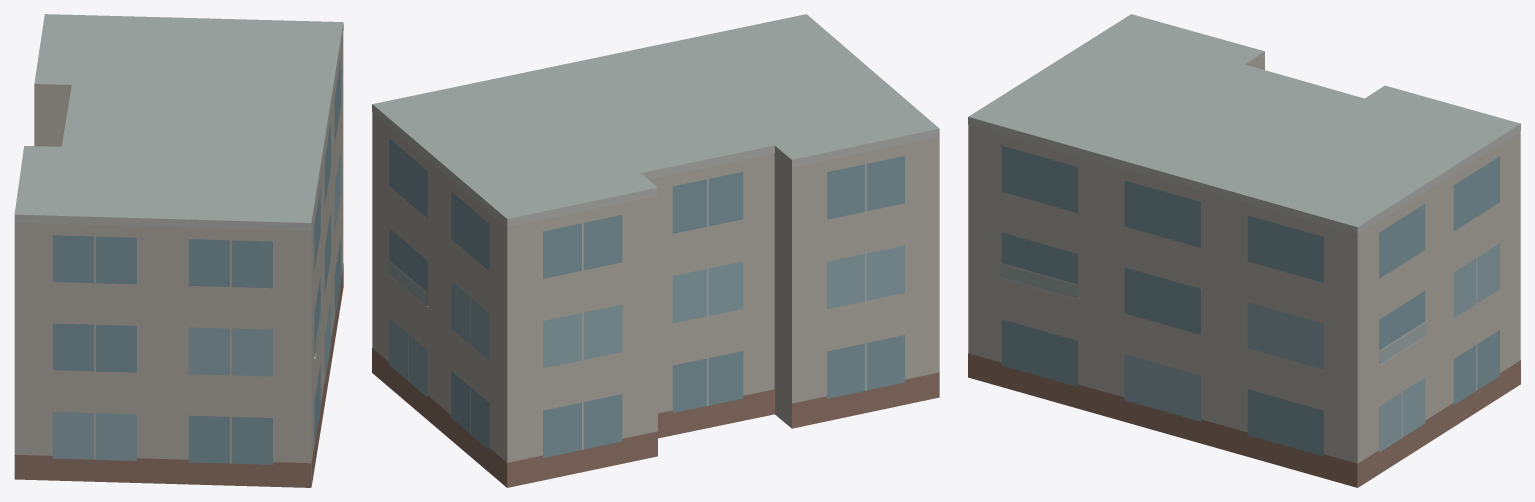
File: survey-upis-32731730.glb
The picture shows the model from 3 angles, left to right: view 1: azimuth 30°, elevation 25°; view 2: azimuth 150°, elevation 25°; view 3: azimuth 270°, elevation 25°; orthographic projection. The views are drawn at different scales.
Visible parts, largest first — view 1: survey-upis-32731730.tmp; view 2: survey-upis-32731730.tmp; view 3: survey-upis-32731730.tmp.
Part boxes in pixels (<box>): survey-upis-32731730.tmp: <box>14,14,343,487</box>; survey-upis-32731730.tmp: <box>372,14,939,487</box>; survey-upis-32731730.tmp: <box>968,14,1520,487</box>.
Bounding box in the file's own units: 14.4 × 8.2 × 15.77.
